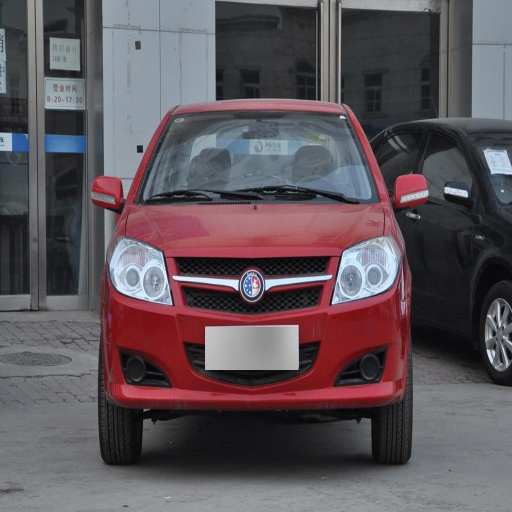front_bumper: (107, 253, 408, 409)
front_right_light: (109, 238, 173, 305)
hood: (123, 202, 384, 255)
